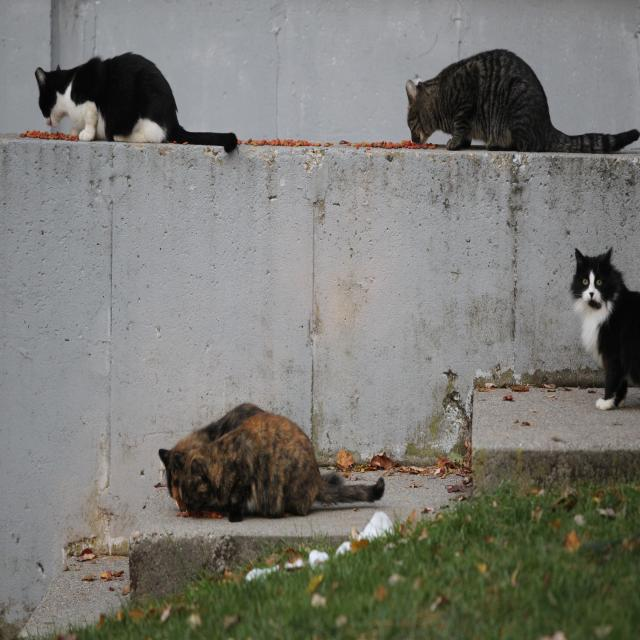cat: (159, 403, 385, 521), (406, 49, 640, 154), (35, 52, 238, 152), (570, 249, 640, 411)
